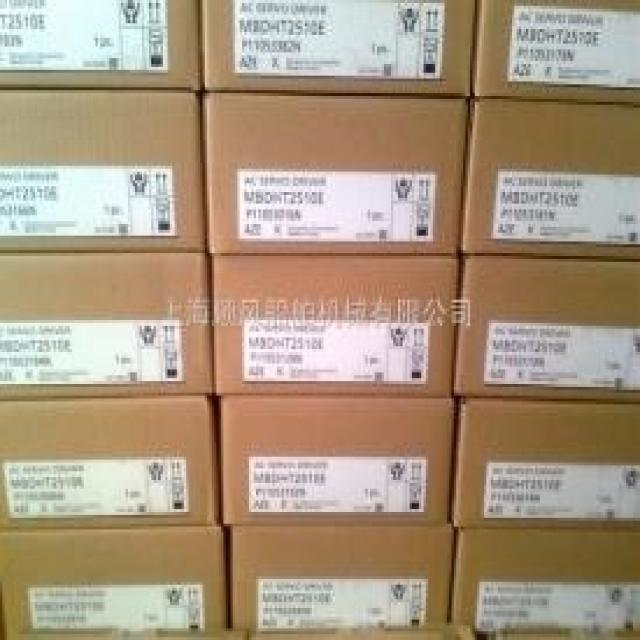Carton: (454, 404, 635, 631), (205, 99, 461, 250), (216, 259, 456, 390), (0, 253, 209, 390), (219, 399, 456, 518), (0, 399, 212, 527), (465, 105, 638, 253), (454, 259, 638, 396), (205, 0, 468, 87), (2, 527, 219, 631), (228, 527, 451, 625), (472, 0, 638, 96)
